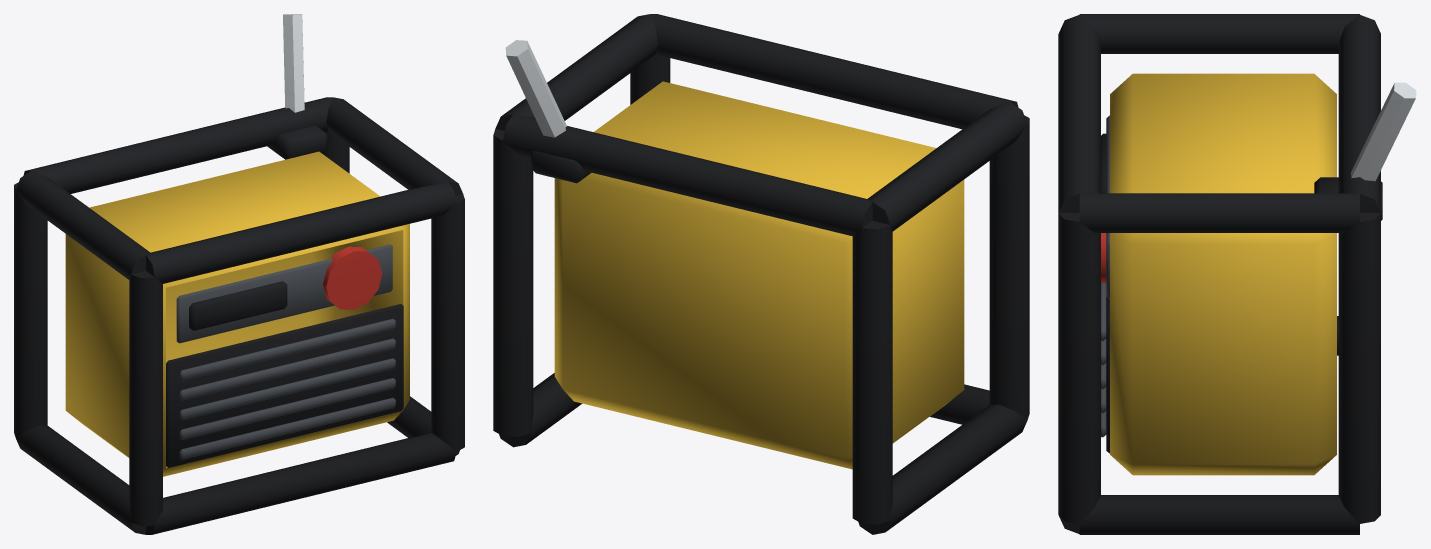
Rendered from SM_Radio_Jobsite_01.glb.
3 renders of one model, left to right at view 1: azimuth 30°, elevation 25°; view 2: azimuth 150°, elevation 25°; view 3: azimuth 270°, elevation 25°, orthographic. The views are drawn at different scales.
Parts seen in each view (by area): view 1: SM_Radio_Jobsite_01; view 2: SM_Radio_Jobsite_01; view 3: SM_Radio_Jobsite_01.
Boxes of the visible parts, x1,y1,x2,y2 form: SM_Radio_Jobsite_01: (14, 14, 464, 534); SM_Radio_Jobsite_01: (493, 14, 1029, 534); SM_Radio_Jobsite_01: (1058, 14, 1416, 534).
Bounding box in the file's own units: 0.308 × 0.3177 × 0.2364.
1 material, 1 textured.
